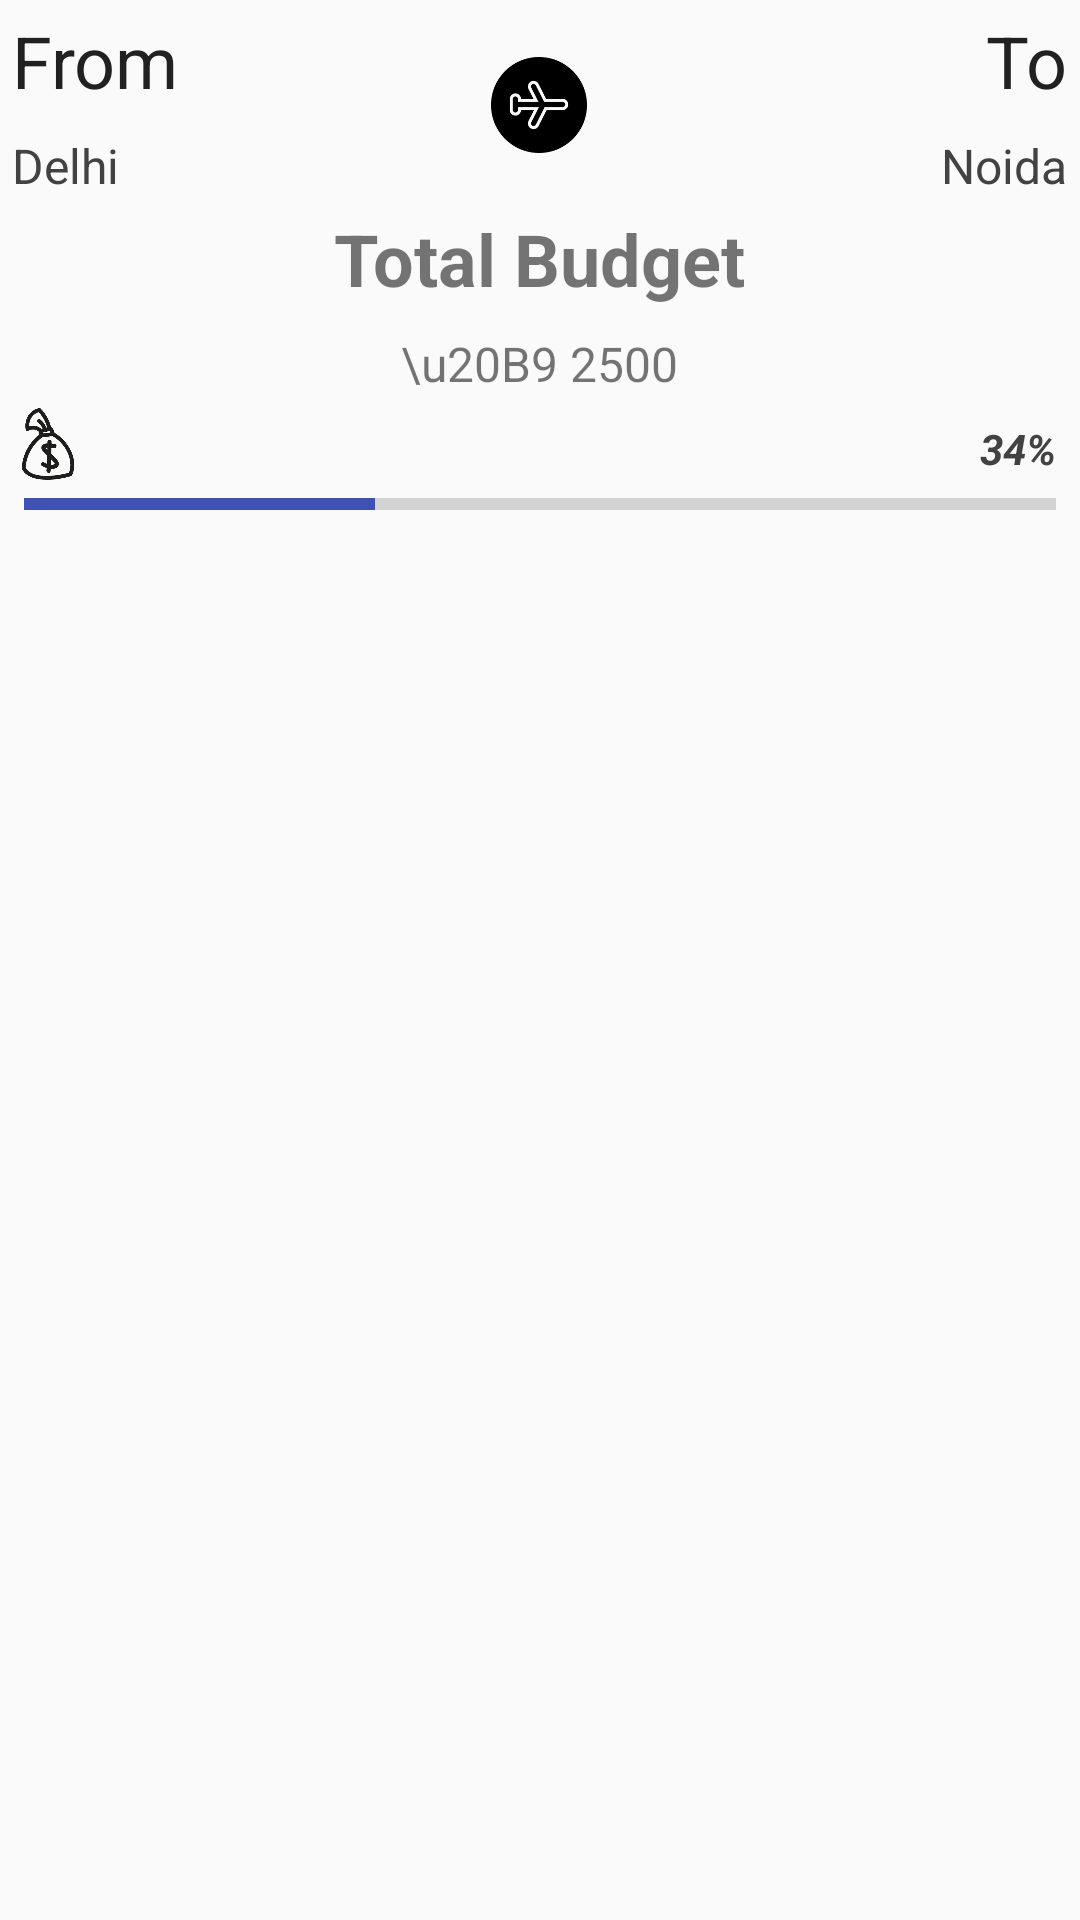

Locate icon controls on the screen. Image size 1080px×1920px, boxes as (x1, y1, x2, y2).
money: (22, 408, 74, 480)
